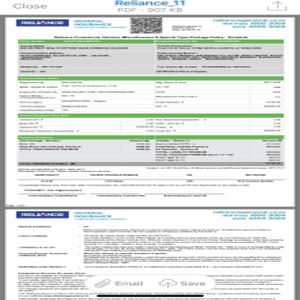image: (15, 210, 69, 221), (15, 20, 71, 29)
table: (18, 39, 284, 75), (18, 76, 283, 112), (18, 136, 284, 163), (18, 114, 283, 136)
